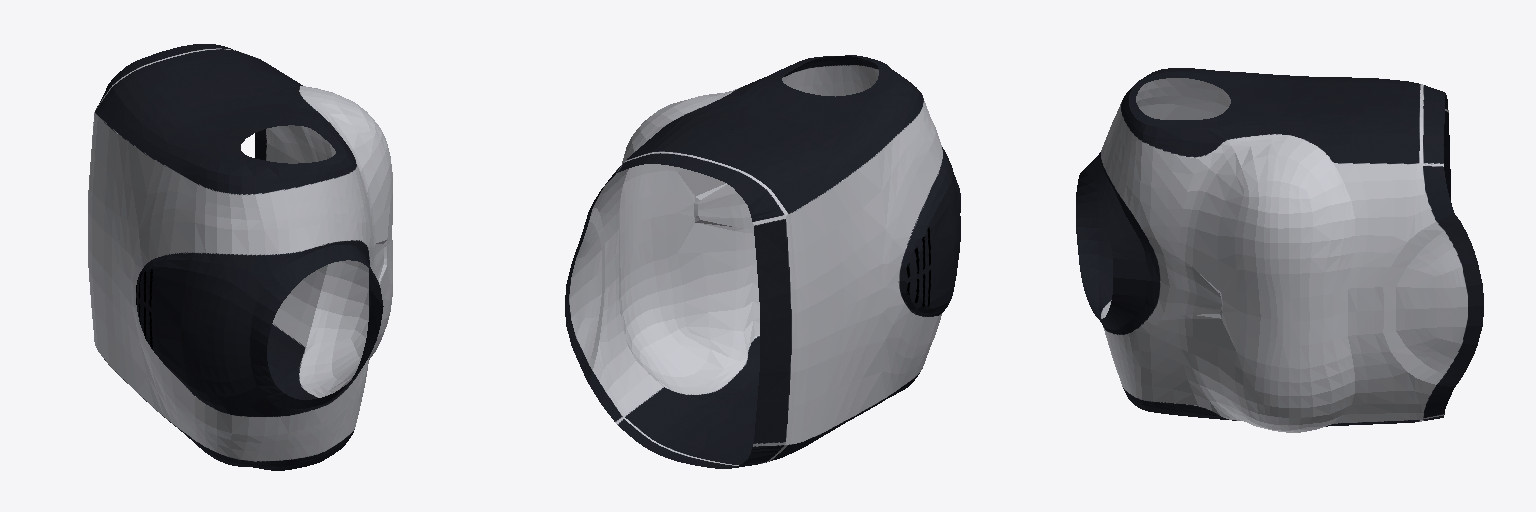
The picture shows the model from 3 angles: view 1: azimuth 30°, elevation 25°; view 2: azimuth 150°, elevation 25°; view 3: azimuth 270°, elevation 25°; orthographic projection.
Visible parts, largest first — view 1: CHEST_Y-452-FACES; view 2: CHEST_Y-452-FACES; view 3: CHEST_Y-452-FACES.
Part boxes in pixels (x1,y1,x2,y2): CHEST_Y-452-FACES: (88, 44, 392, 470); CHEST_Y-452-FACES: (565, 55, 960, 468); CHEST_Y-452-FACES: (1076, 68, 1483, 432).
Size of the model in its own units: 0.236 by 0.2566 by 0.3124.
1 materials, 1 textured.